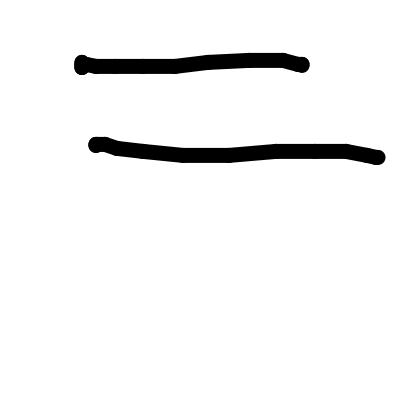eqv: (66, 48, 388, 169)
